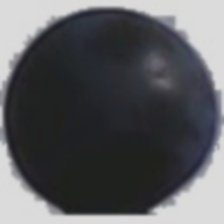grapes: (16, 8, 206, 173)
